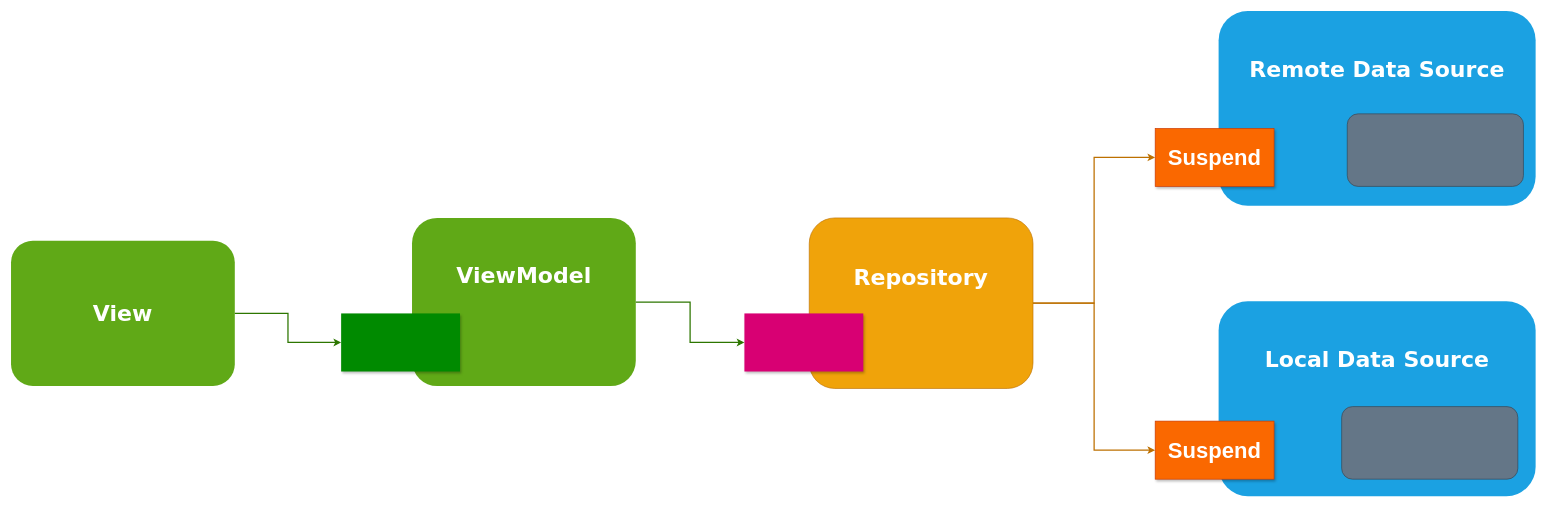
Image size: 1546x507. Some labels were removed from this diagram. The centre of each missing label's shape, as x and y in pixels:
"Flow" goes at (804,343).
"LiveData" goes at (400,343).
"Retrofit" goes at (1435,149).
"Room" goes at (1429,442).
